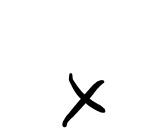mult: (64, 73, 105, 125)
